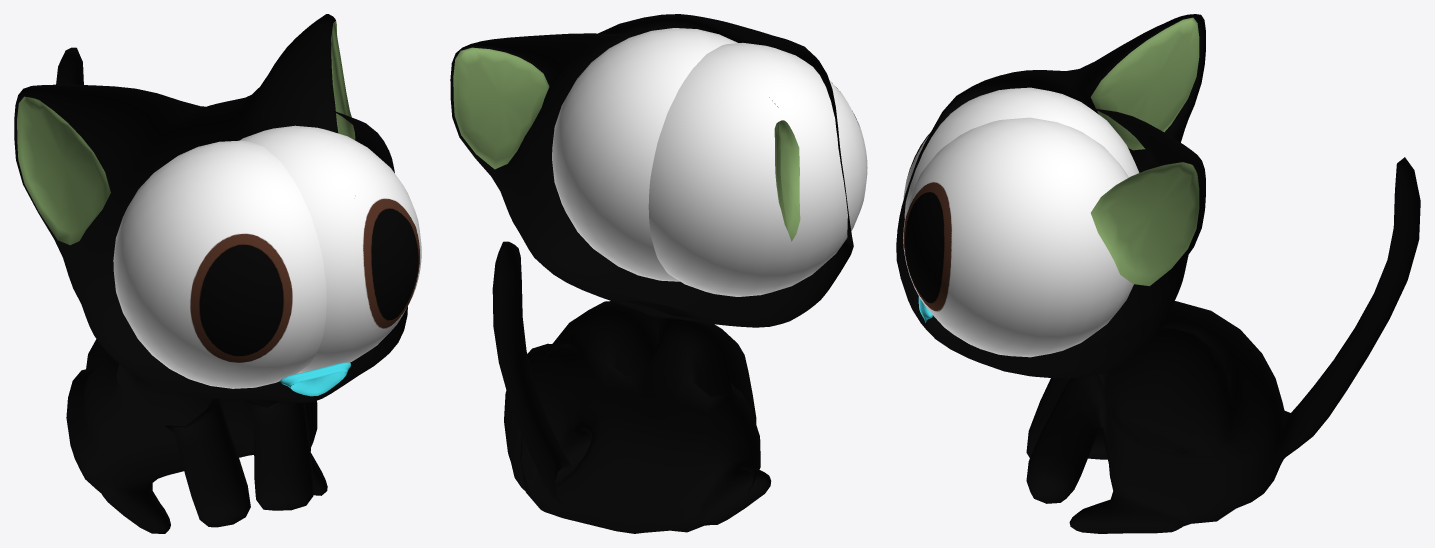
Rendered from ロシャオ2.glb.
The picture shows the model from 3 angles, left to right: view 1: azimuth 30°, elevation 25°; view 2: azimuth 150°, elevation 25°; view 3: azimuth 270°, elevation 25°; orthographic projection. The views are drawn at different scales.
Parts seen in each view (by area): view 1: 立方体.004; view 2: 立方体.004; view 3: 立方体.004.
Part boxes in pixels (left/top/right/bottom): 立方体.004: left=14, top=14, right=421, bottom=533; 立方体.004: left=450, top=14, right=867, bottom=533; 立方体.004: left=896, top=14, right=1420, bottom=533.
Bounding box in the file's own units: 1.12 × 1.42 × 1.63.
Materials: 4 (1 with a texture image).
